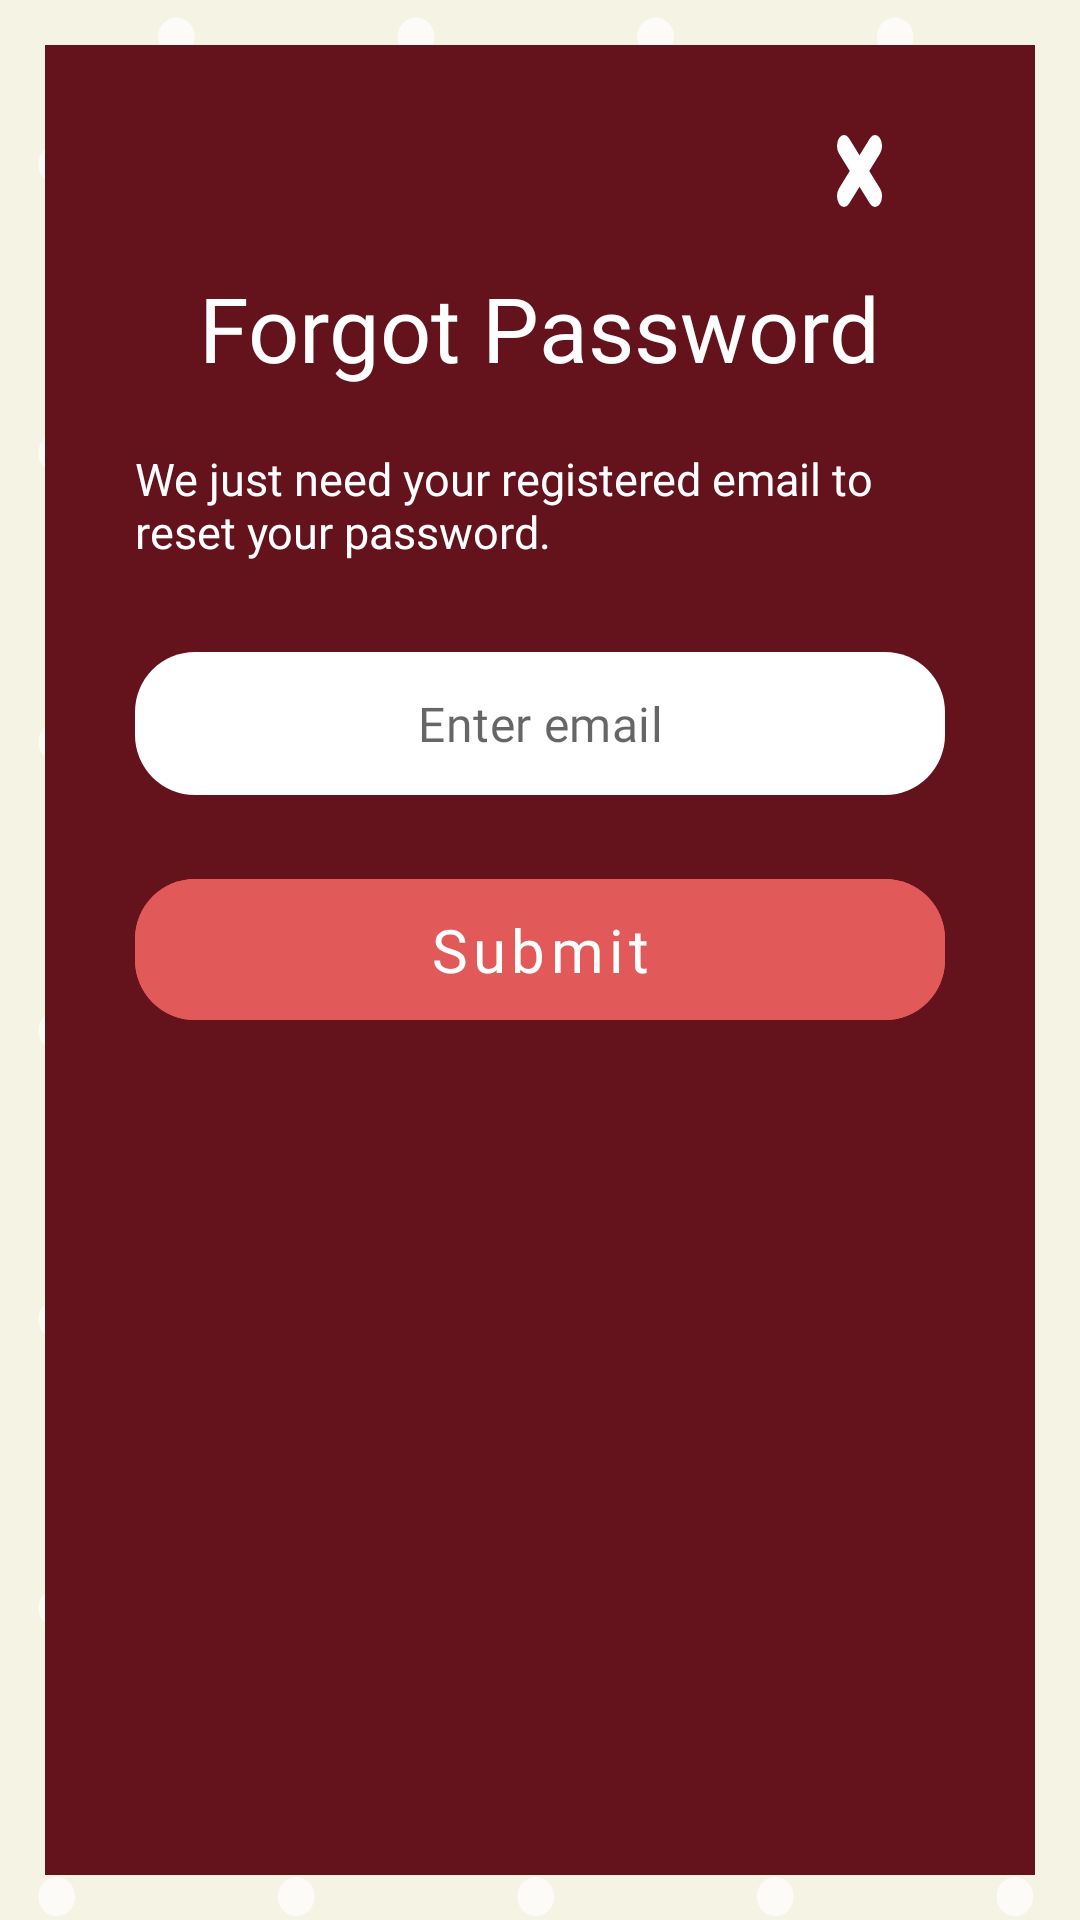

Where to tap for icons on this 1080px×1920px app screen, as (x=x, y=y):
close: (x=859, y=171)
